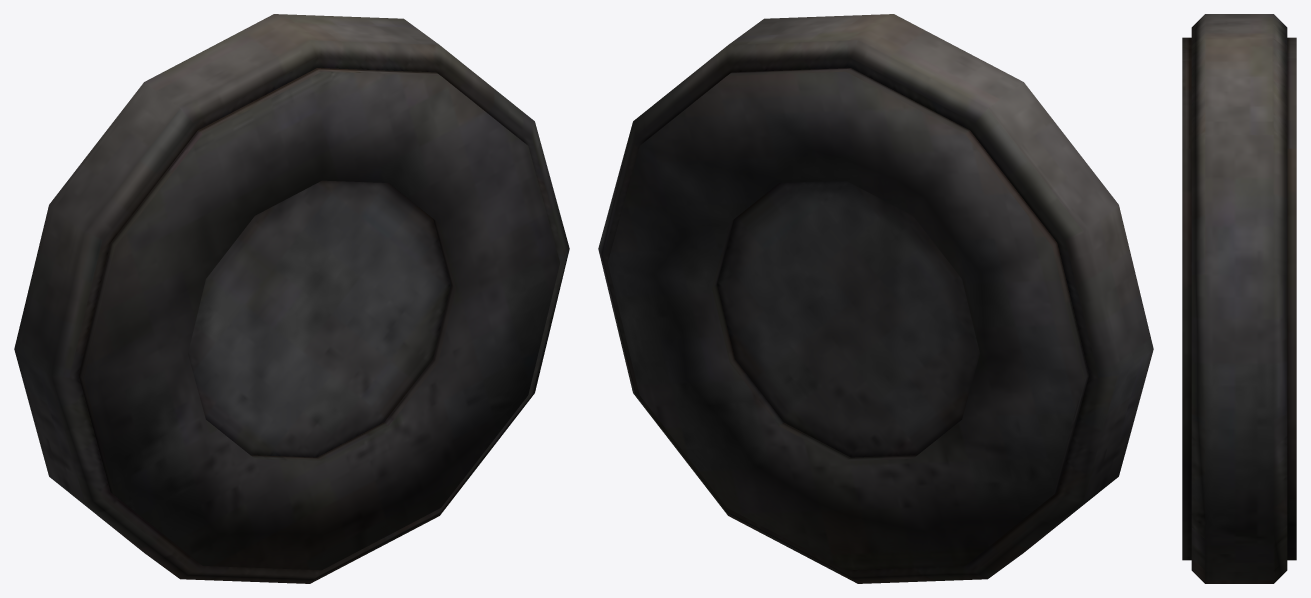
Rendered from pneu.glb.
3 views of the same model, side by side, from view 1: azimuth 30°, elevation 25°; view 2: azimuth 150°, elevation 25°; view 3: azimuth 270°, elevation 25° (orthographic). The views are drawn at different scales.
Parts seen in each view (by area): view 1: pneu; view 2: pneu; view 3: pneu.
Part boxes in pixels (left/top/right/bottom): pneu: left=14, top=14, right=569, bottom=583; pneu: left=598, top=14, right=1153, bottom=583; pneu: left=1182, top=14, right=1296, bottom=583.
Size of the model in its own units: 0.6 by 0.6 by 0.1202.
Materials: 1 (1 with a texture image).
